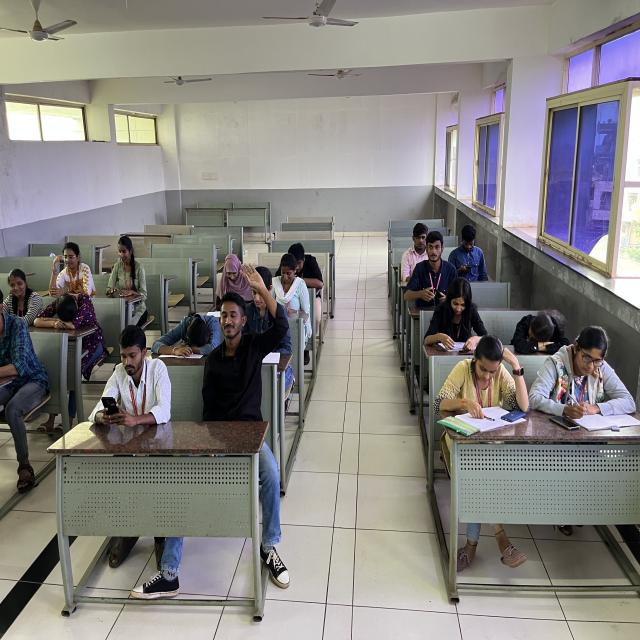Hand Rising: (202, 266, 287, 368)
Reading: (427, 276, 491, 360)
Sleeping: (155, 301, 224, 361), (510, 287, 567, 356), (37, 288, 99, 344)
Using Phone: (89, 323, 166, 428), (448, 218, 504, 284)
Writing: (549, 326, 640, 424)
